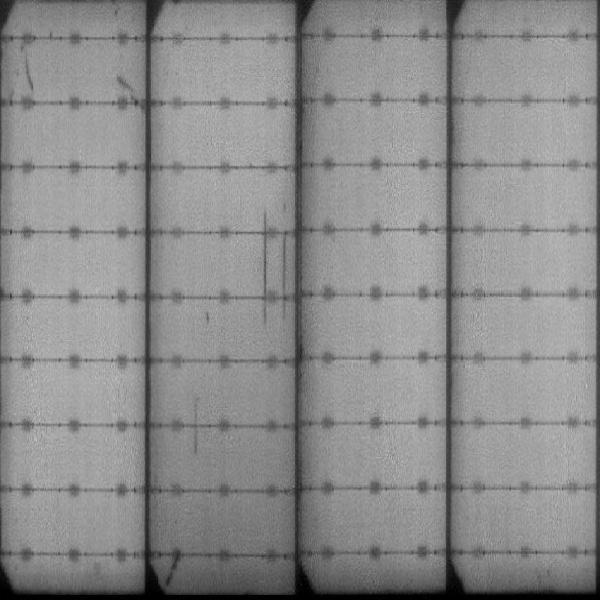scratch: (259, 208, 273, 331), (279, 227, 292, 322), (186, 393, 203, 452), (21, 52, 39, 103), (114, 72, 140, 99), (165, 553, 184, 587)
